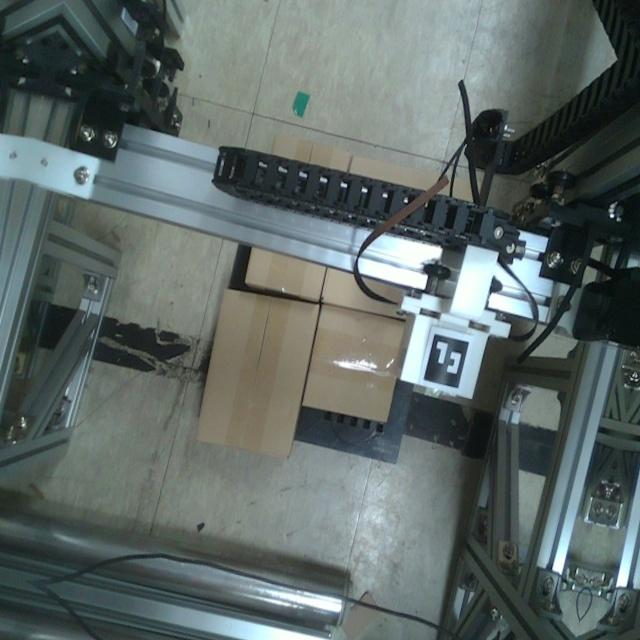box: (187, 280, 327, 464), (296, 299, 414, 427)
